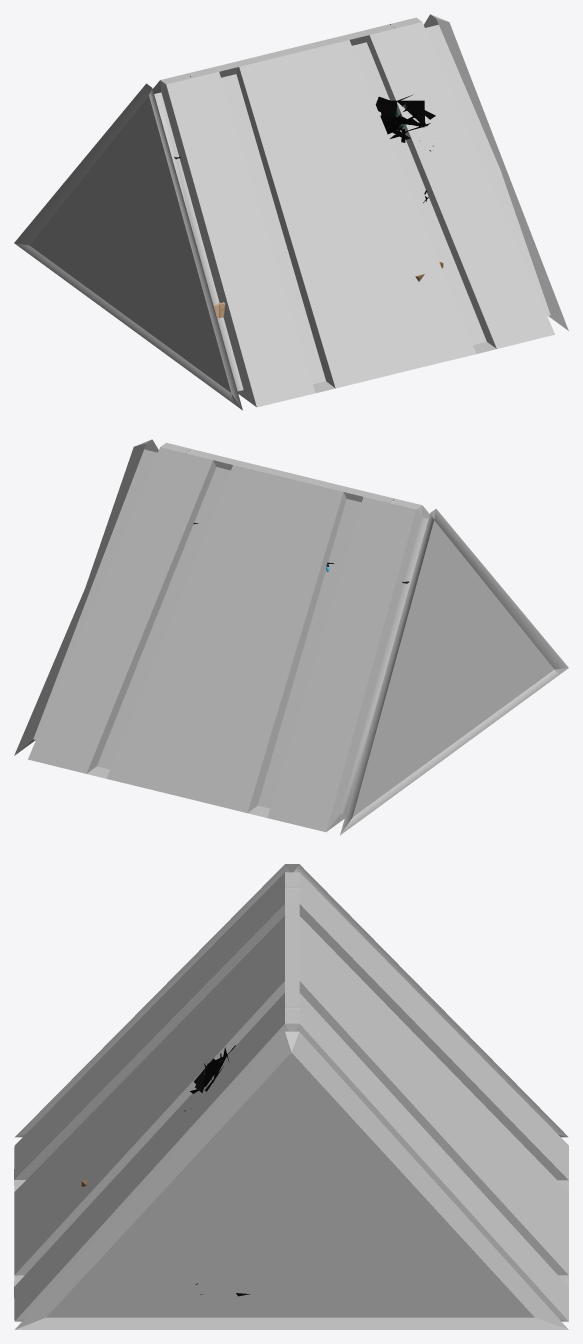
Rendered from P.Desvan_montado.fbx.
3 views of the same model, one above another, from view 1: azimuth 30°, elevation 25°; view 2: azimuth 150°, elevation 25°; view 3: azimuth 270°, elevation 25° (orthographic). The views are drawn at different scales.
Visible parts, largest first — view 1: estructura, arbool.001; view 2: estructura; view 3: estructura, arbool.001.
Part boxes in pixels (x1=…): estructura: x1=14, y1=14, x2=568, y2=410; arbool.001: x1=375, y1=94, x2=435, y2=202; estructura: x1=14, y1=439, x2=568, y2=835; estructura: x1=14, y1=864, x2=568, y2=1329; arbool.001: x1=184, y1=1045, x2=249, y2=1296.
Size of the model in its own units: 14.78 by 10.69 by 18.01.
